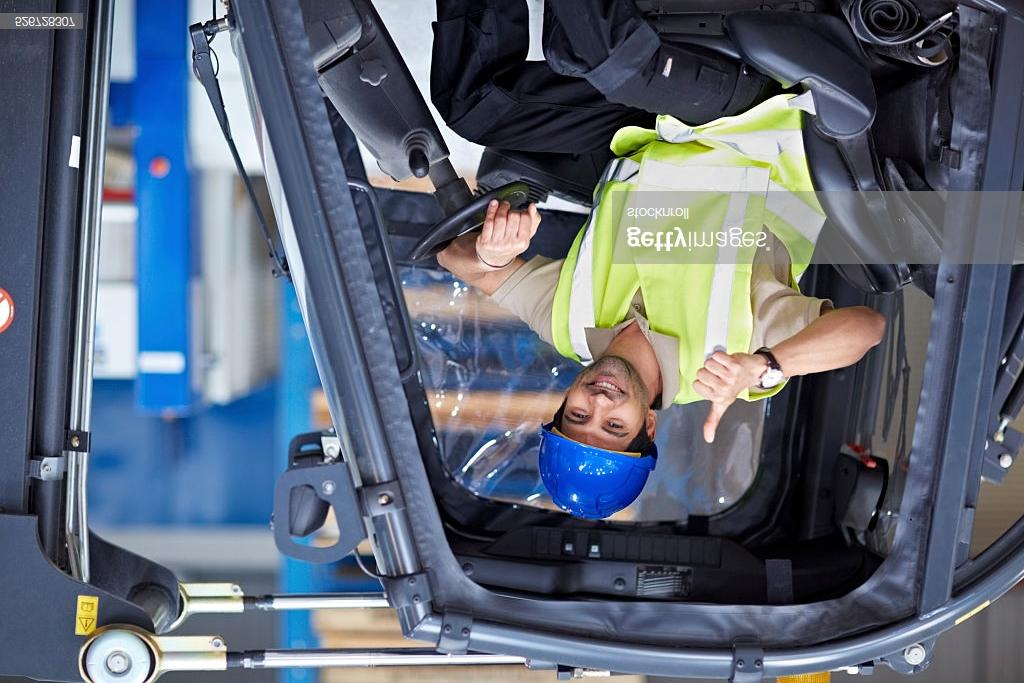thumbsdown: (693, 350, 743, 443)
